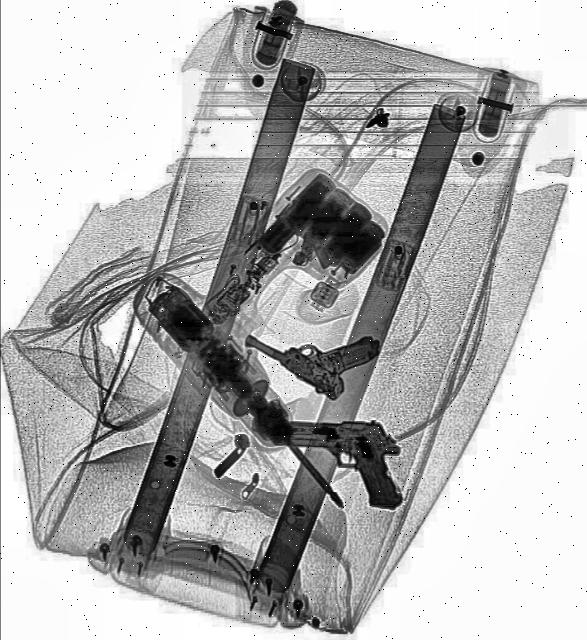Gun: (238, 283, 384, 412), (266, 421, 404, 512)
